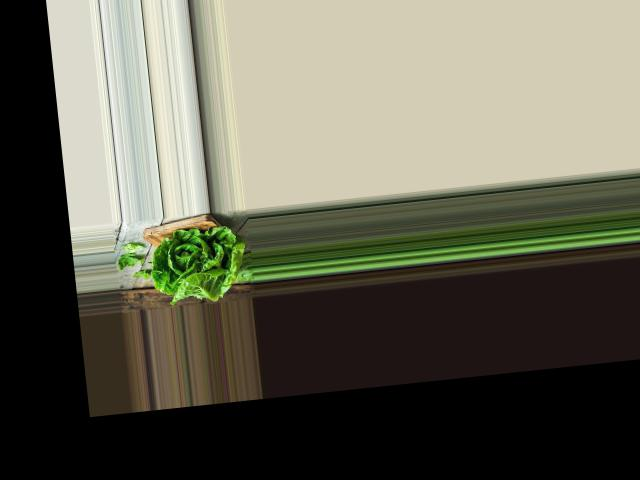lettuce: (151, 218, 251, 304)
